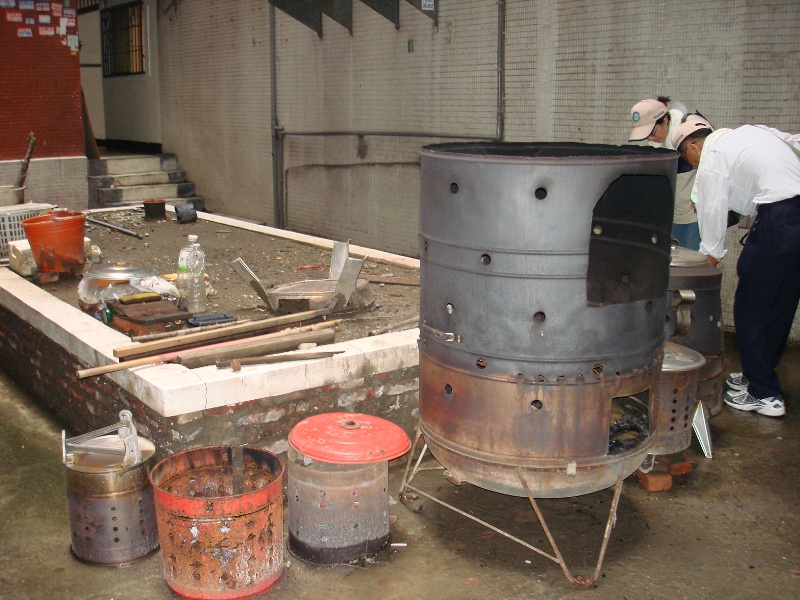bottle: (186, 244, 210, 313)
bowl: (142, 197, 167, 220), (175, 200, 197, 226)
bucket: (397, 139, 677, 582), (150, 444, 284, 600), (62, 436, 158, 566), (288, 444, 388, 563), (22, 210, 86, 276)
plate: (289, 412, 412, 463), (86, 261, 158, 280)
